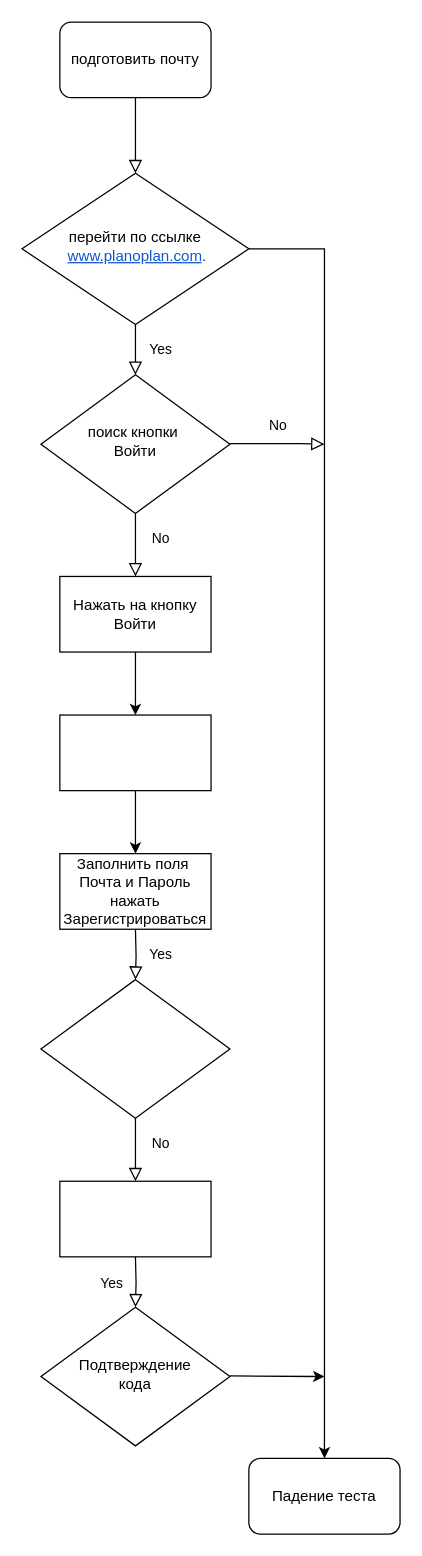
Some shapes in this 422 by 1556 pixel diagram are drawn without their labels. Each missing label, with the box of its shape:
Нажать на ссылку Регистрация: (59, 714, 211, 791)
Ожидание письма: (40, 978, 230, 1118)
скопировать код из письма в подтверждающую форму: (59, 1180, 211, 1257)
